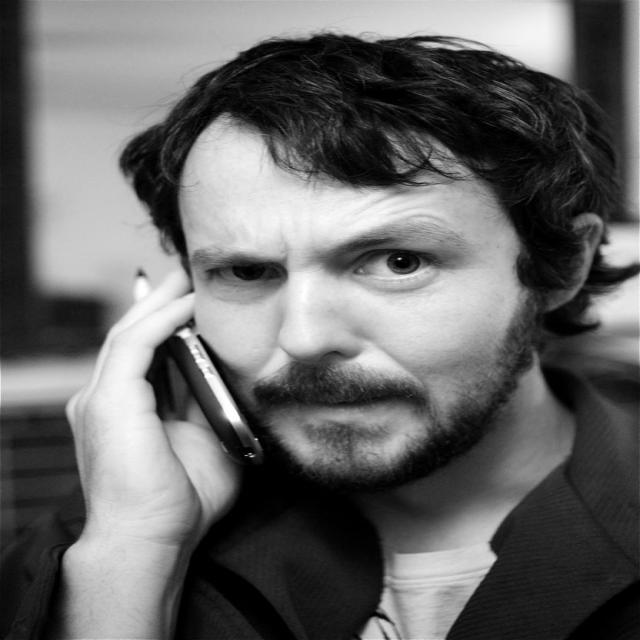no-glass: (202, 234, 468, 286)
